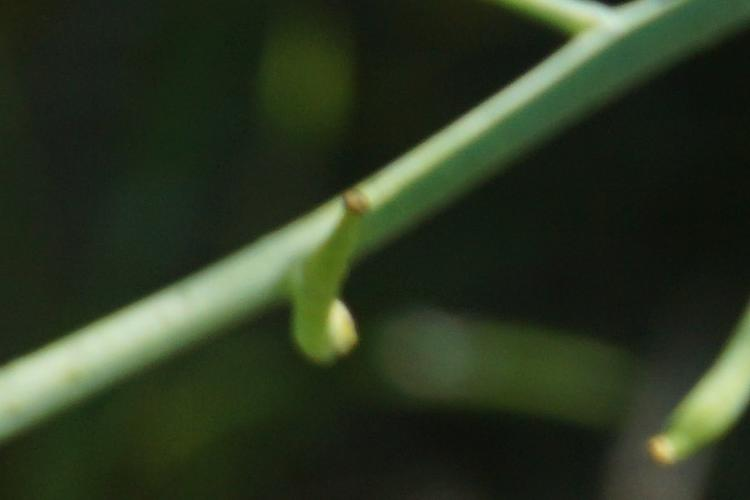pod: (279, 170, 405, 390), (636, 330, 750, 464)
